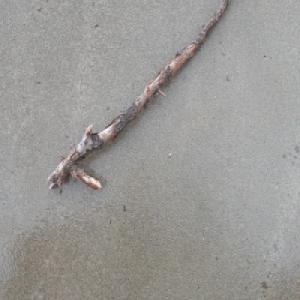Wood: (46, 0, 233, 193)
